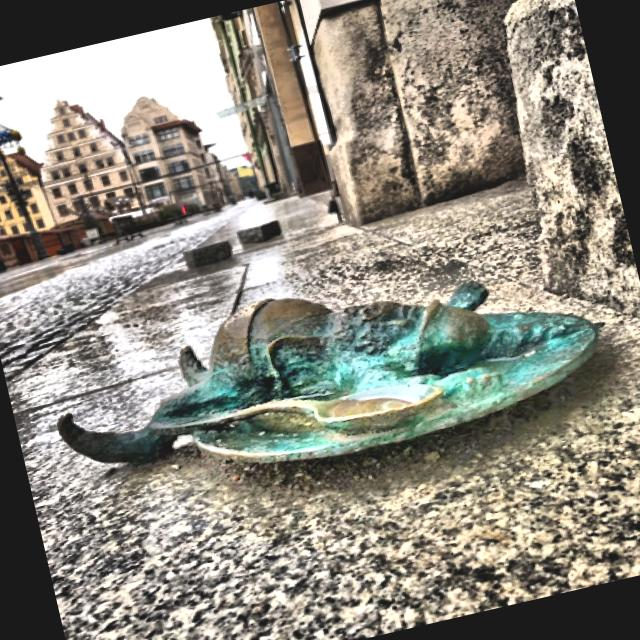Obiezysmak: (56, 281, 601, 465)
